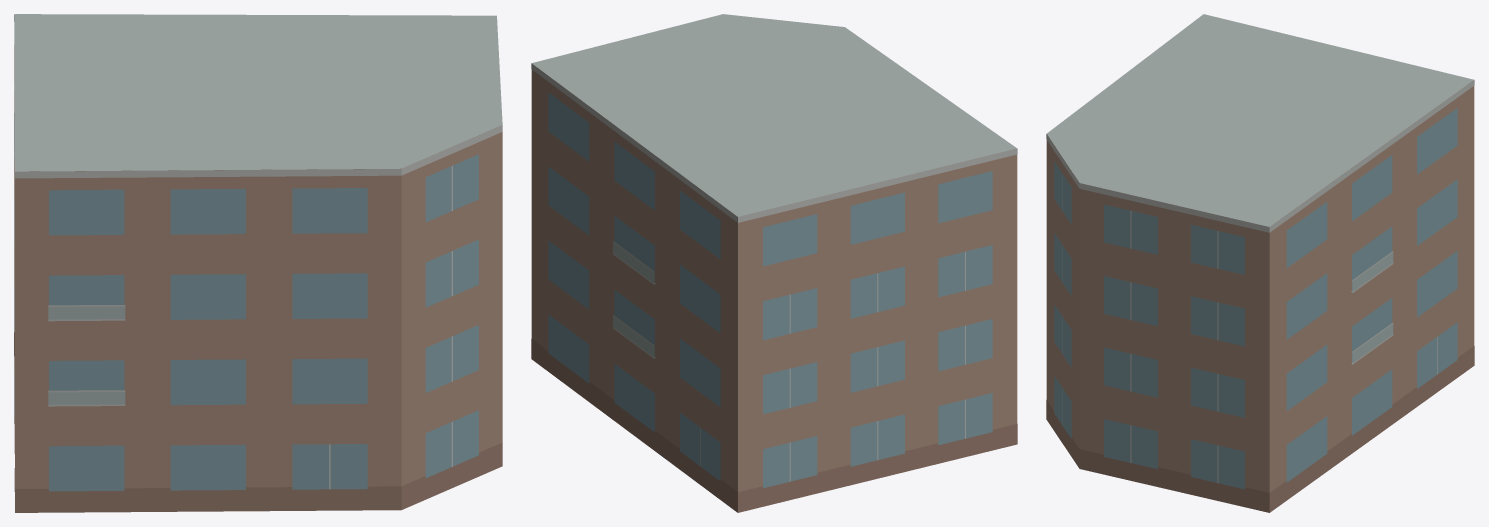
File: survey-upis-32854409.glb
3 renders of one model, left to right at view 1: azimuth 30°, elevation 25°; view 2: azimuth 150°, elevation 25°; view 3: azimuth 270°, elevation 25°, orthographic. The views are drawn at different scales.
Parts seen in each view (by area): view 1: survey-upis-32854409.tmp; view 2: survey-upis-32854409.tmp; view 3: survey-upis-32854409.tmp.
Part boxes in pixels (x1,y1,x2,y2): survey-upis-32854409.tmp: [14, 14, 502, 512]; survey-upis-32854409.tmp: [531, 14, 1017, 512]; survey-upis-32854409.tmp: [1046, 14, 1474, 512].
Size of the model in its own units: 19.35 by 12.1 by 16.42.
